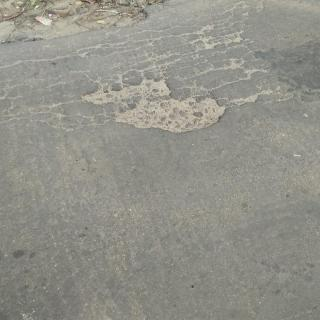pothole: (82, 78, 226, 134)
